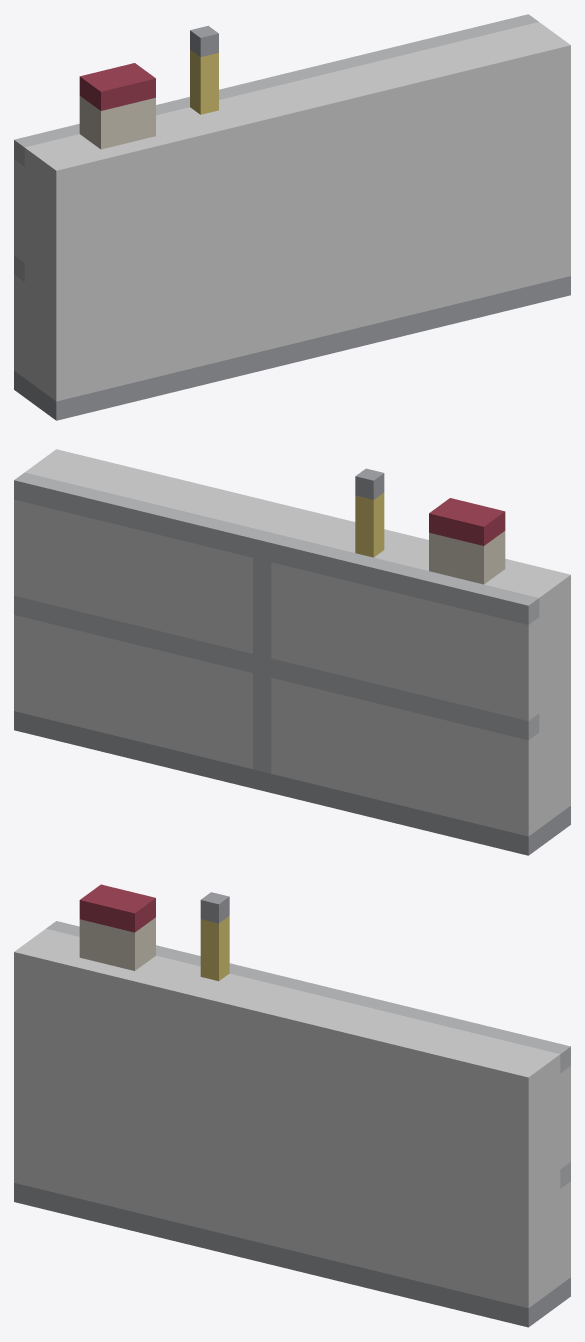
The model's file is meuble_chaussures.glb.
The picture shows the model from 3 angles, top to bottom: view 1: azimuth 30°, elevation 25°; view 2: azimuth 150°, elevation 25°; view 3: azimuth 330°, elevation 25°; orthographic projection.
Visible parts, largest first — view 1: main; view 2: main; view 3: main.
Part boxes in pixels (bbox=[...]): main: bbox=[14, 14, 570, 420]; main: bbox=[14, 449, 570, 855]; main: bbox=[14, 884, 570, 1327].
Size of the model in its own units: 1.75 by 1.06 by 0.25.
